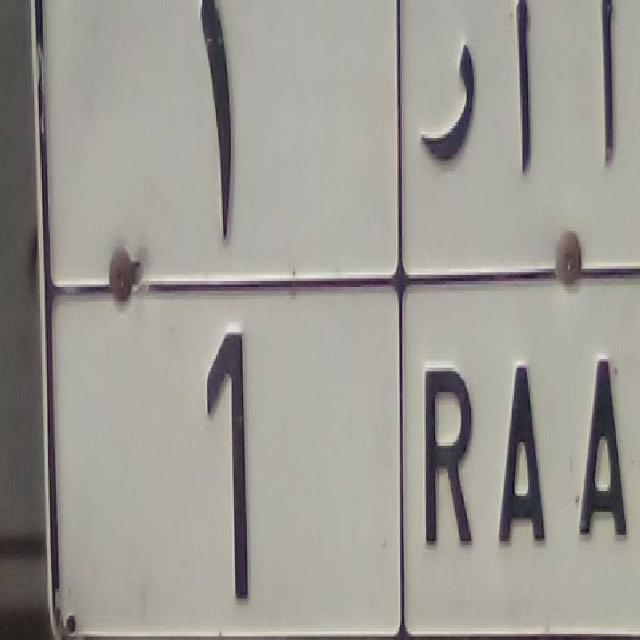license_plate: (44, 254, 640, 640)
